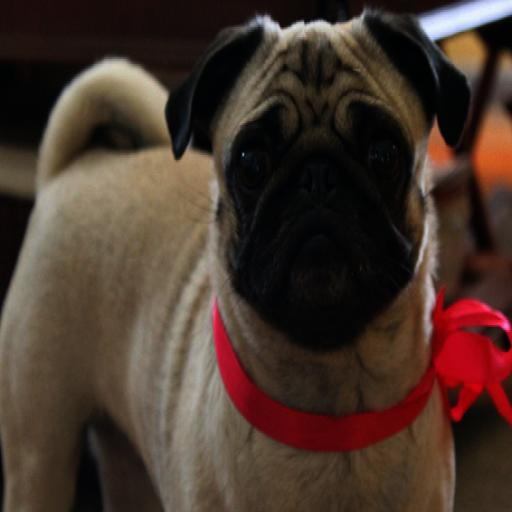dog_face: (166, 5, 464, 334)
